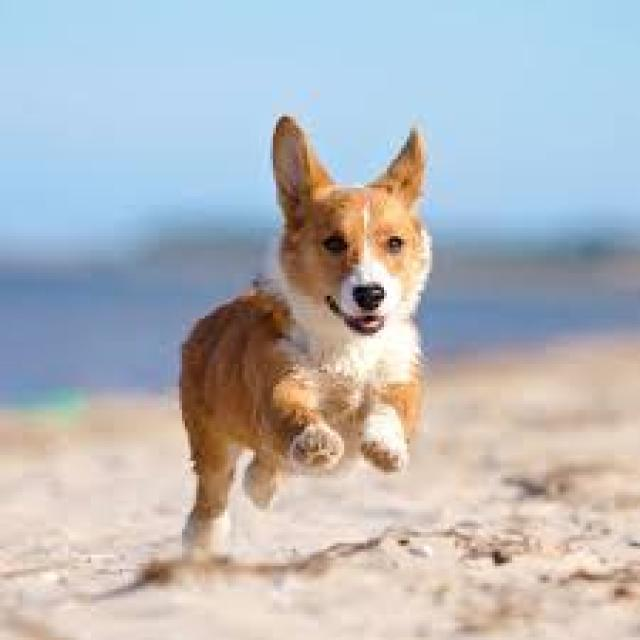CORGI: (136, 95, 452, 573)
